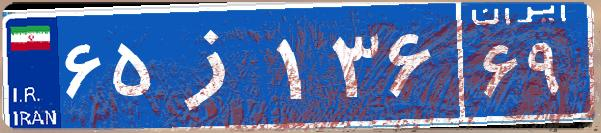1: (273, 28, 330, 110)
3: (330, 28, 385, 110)
5: (110, 28, 158, 105)
6: (385, 28, 445, 110), (57, 26, 110, 107), (475, 38, 525, 113)
9: (525, 38, 570, 115)
ز: (158, 15, 273, 115)
